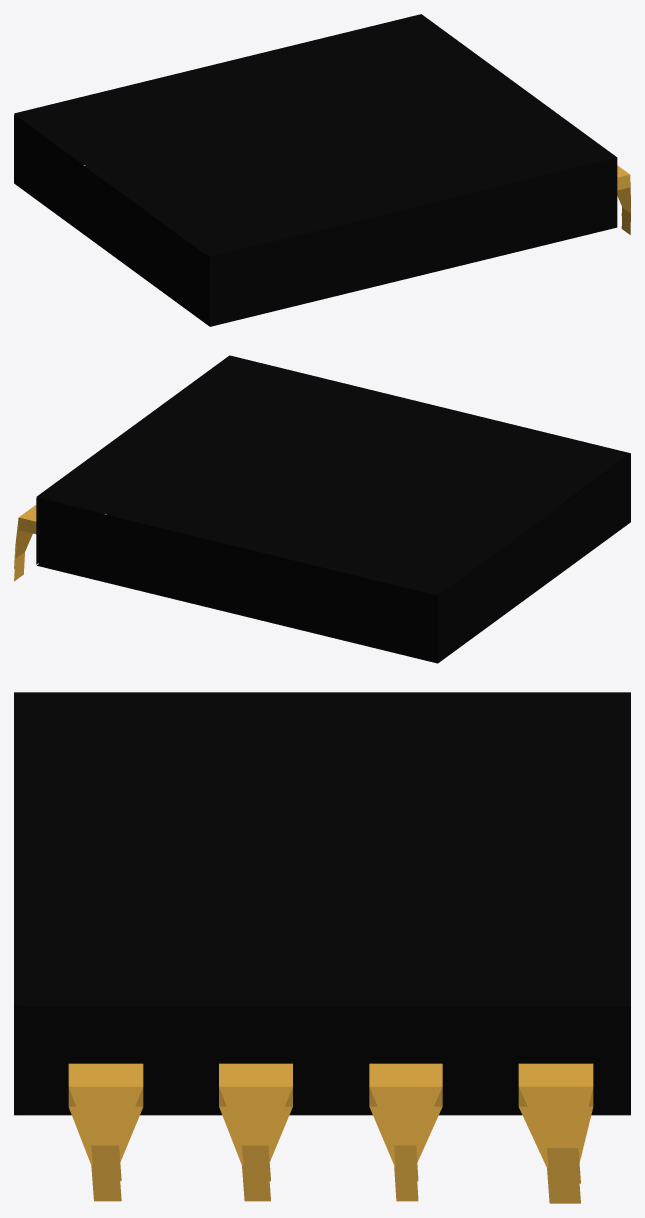
Rendered from Circuito.fbx.
The picture shows the model from 3 angles, top to bottom: view 1: azimuth 30°, elevation 25°; view 2: azimuth 150°, elevation 25°; view 3: azimuth 270°, elevation 25°; orthographic projection. The views are drawn at different scales.
Visible parts, largest first — view 1: Cube; view 2: Cube; view 3: Cube.
Part boxes in pixels (bbox=[...]): Cube: bbox=[14, 14, 630, 326]; Cube: bbox=[14, 355, 630, 663]; Cube: bbox=[14, 692, 630, 1203].
Bounding box in the file's own units: 95.27 × 21.87 × 72.44.
